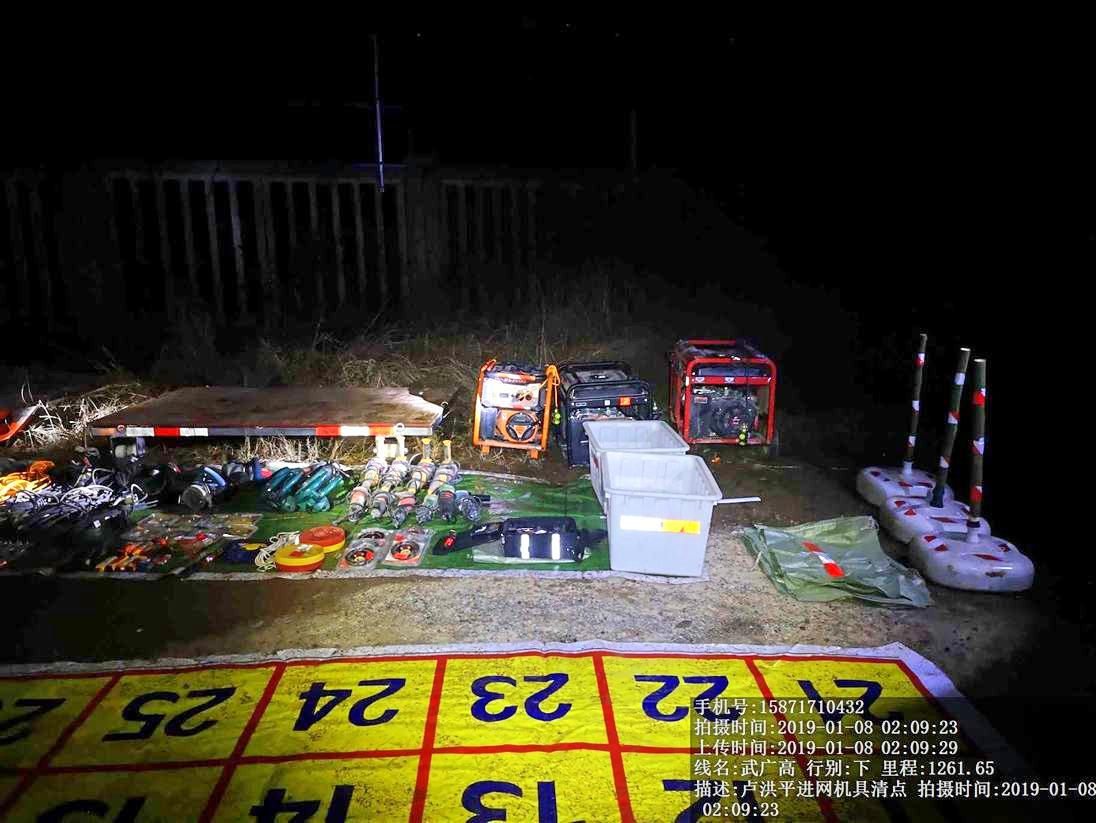BZD: (740, 504, 889, 616)
DJ: (671, 325, 787, 454), (462, 344, 552, 461), (551, 354, 657, 424)
DX: (21, 490, 118, 547)
DZ: (427, 440, 460, 494), (404, 443, 435, 486), (362, 436, 389, 479)
GJB: (435, 520, 592, 567)
JC: (271, 543, 327, 573), (301, 523, 347, 553)
ST: (929, 358, 1037, 599), (869, 318, 932, 519)
T: (598, 453, 730, 581), (576, 420, 692, 455)
